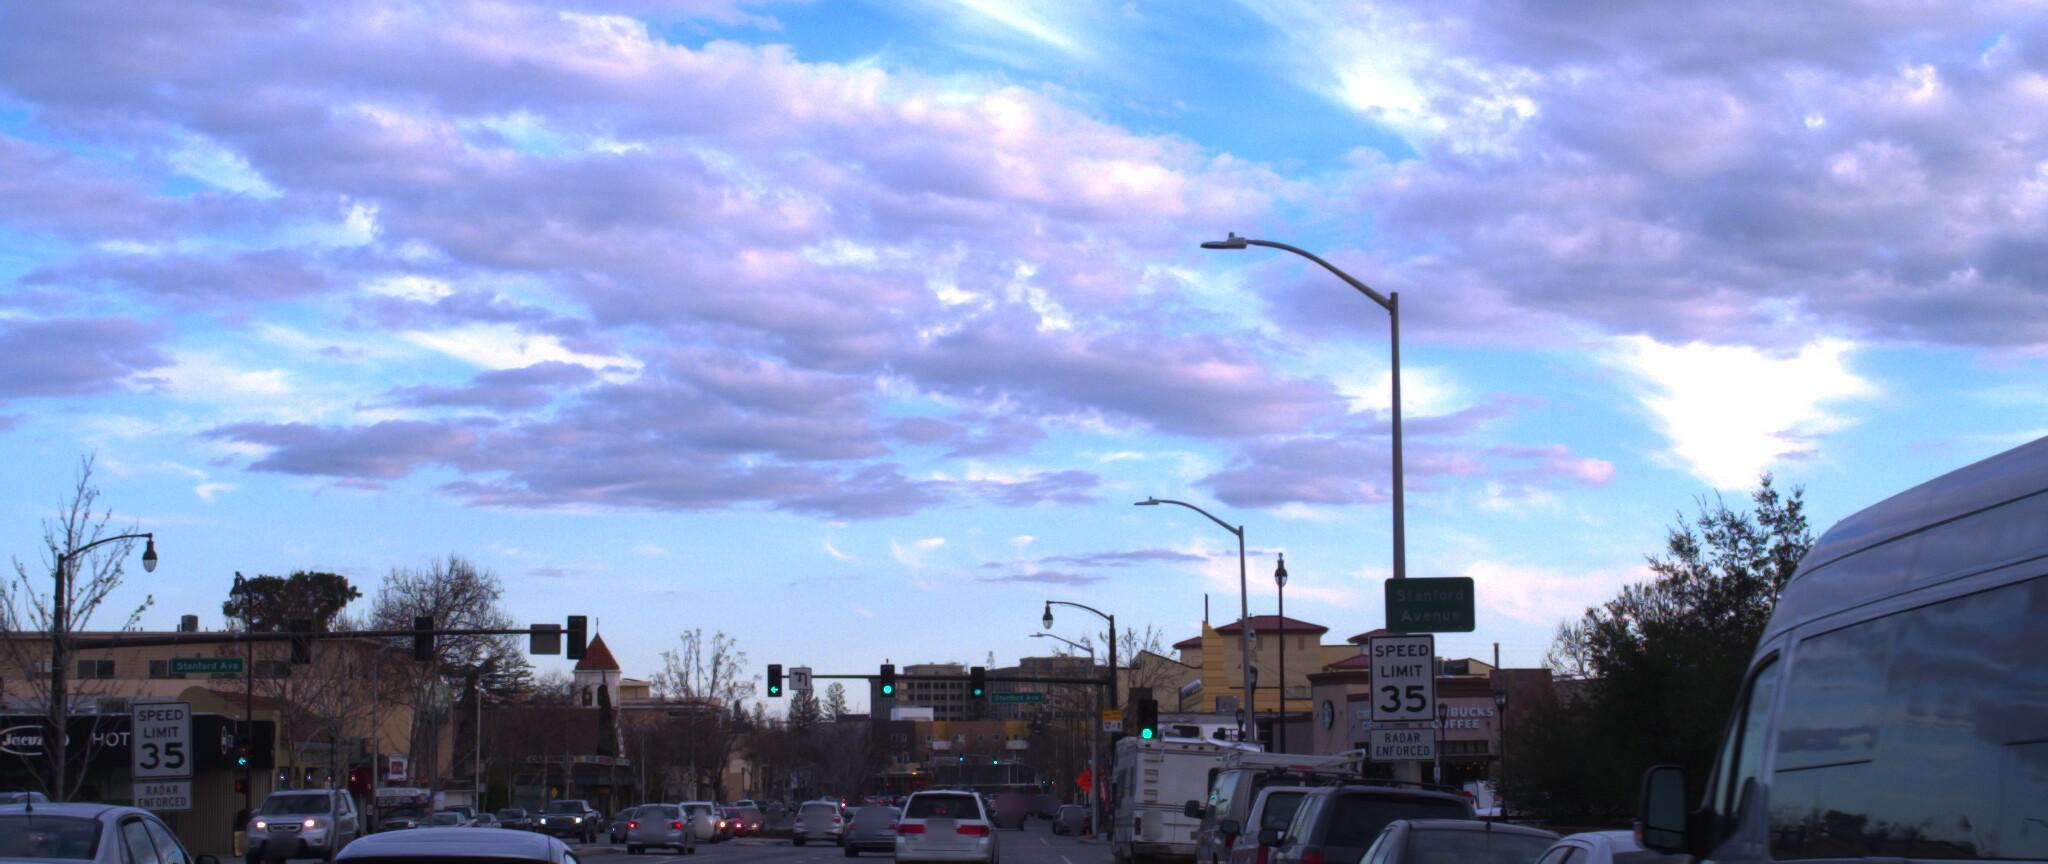car: (1415, 795, 1980, 864), (1237, 745, 1510, 864), (236, 794, 667, 864), (1217, 740, 1439, 864), (1292, 787, 1627, 864), (0, 778, 270, 864), (246, 760, 375, 844), (884, 764, 1000, 856)
truck: (1573, 221, 2048, 864), (1179, 715, 1382, 864), (1101, 696, 1270, 864)
